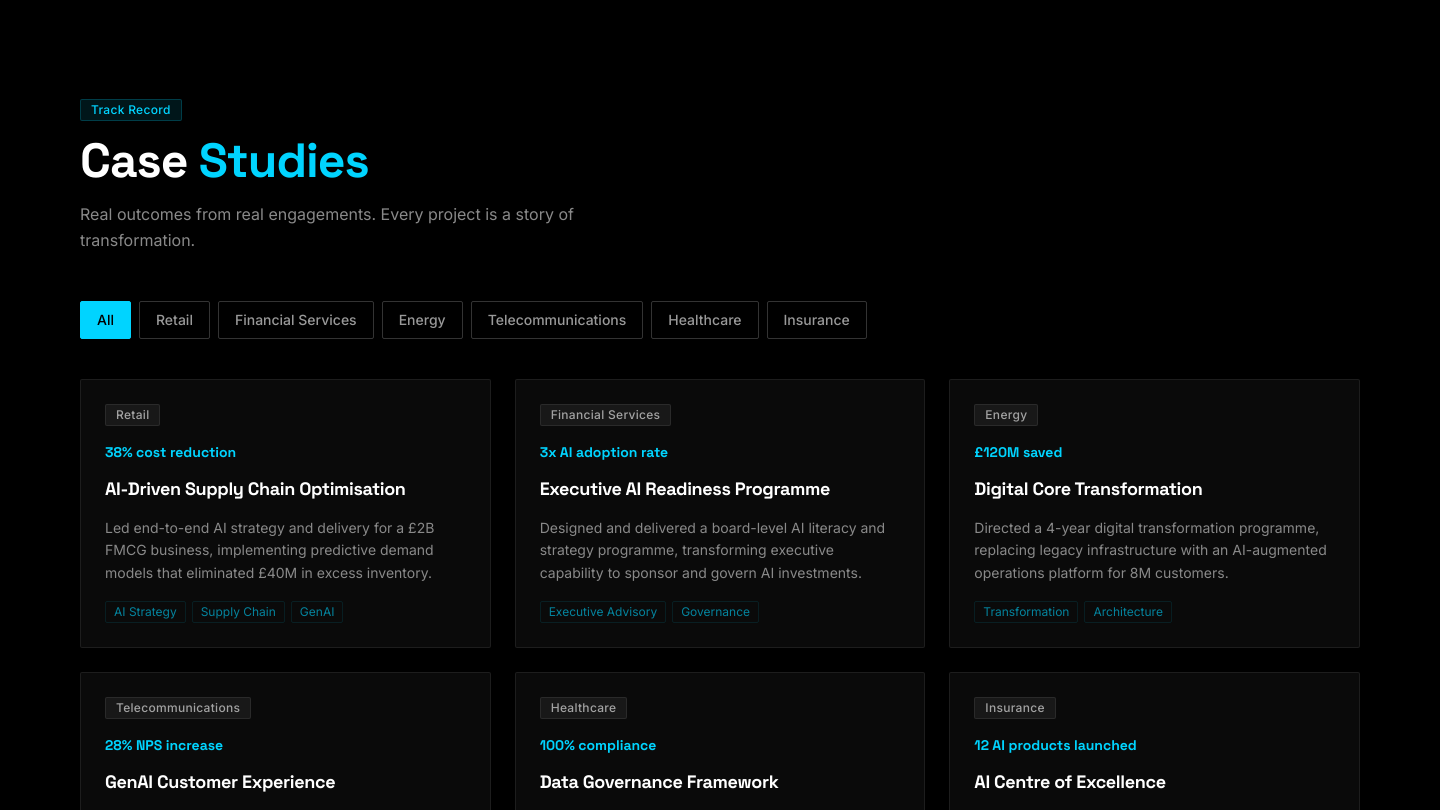
Scenario: CaseStudies › filters by sector
Expected: the tab "All" is shown, [80,301,131,339]
# Click on "Financial Services" filter tab
Click the tab "Financial Services".
click(296, 320)  # box [218,301,374,339]
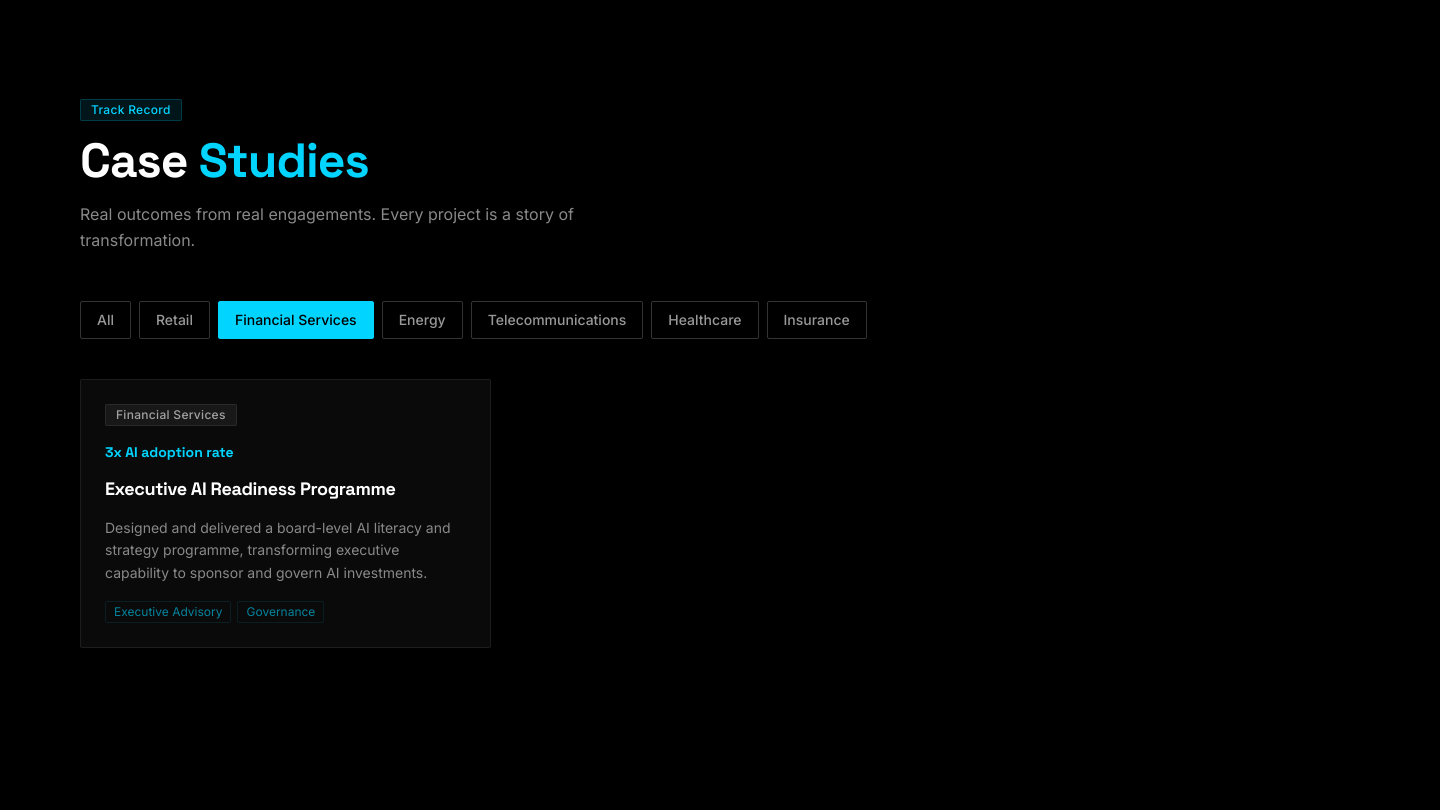
Expected: the button "Executive AI Readiness Programme" is shown, [80,379,491,648]
Expected: the button "AI-Driven Supply Chain" is gone
